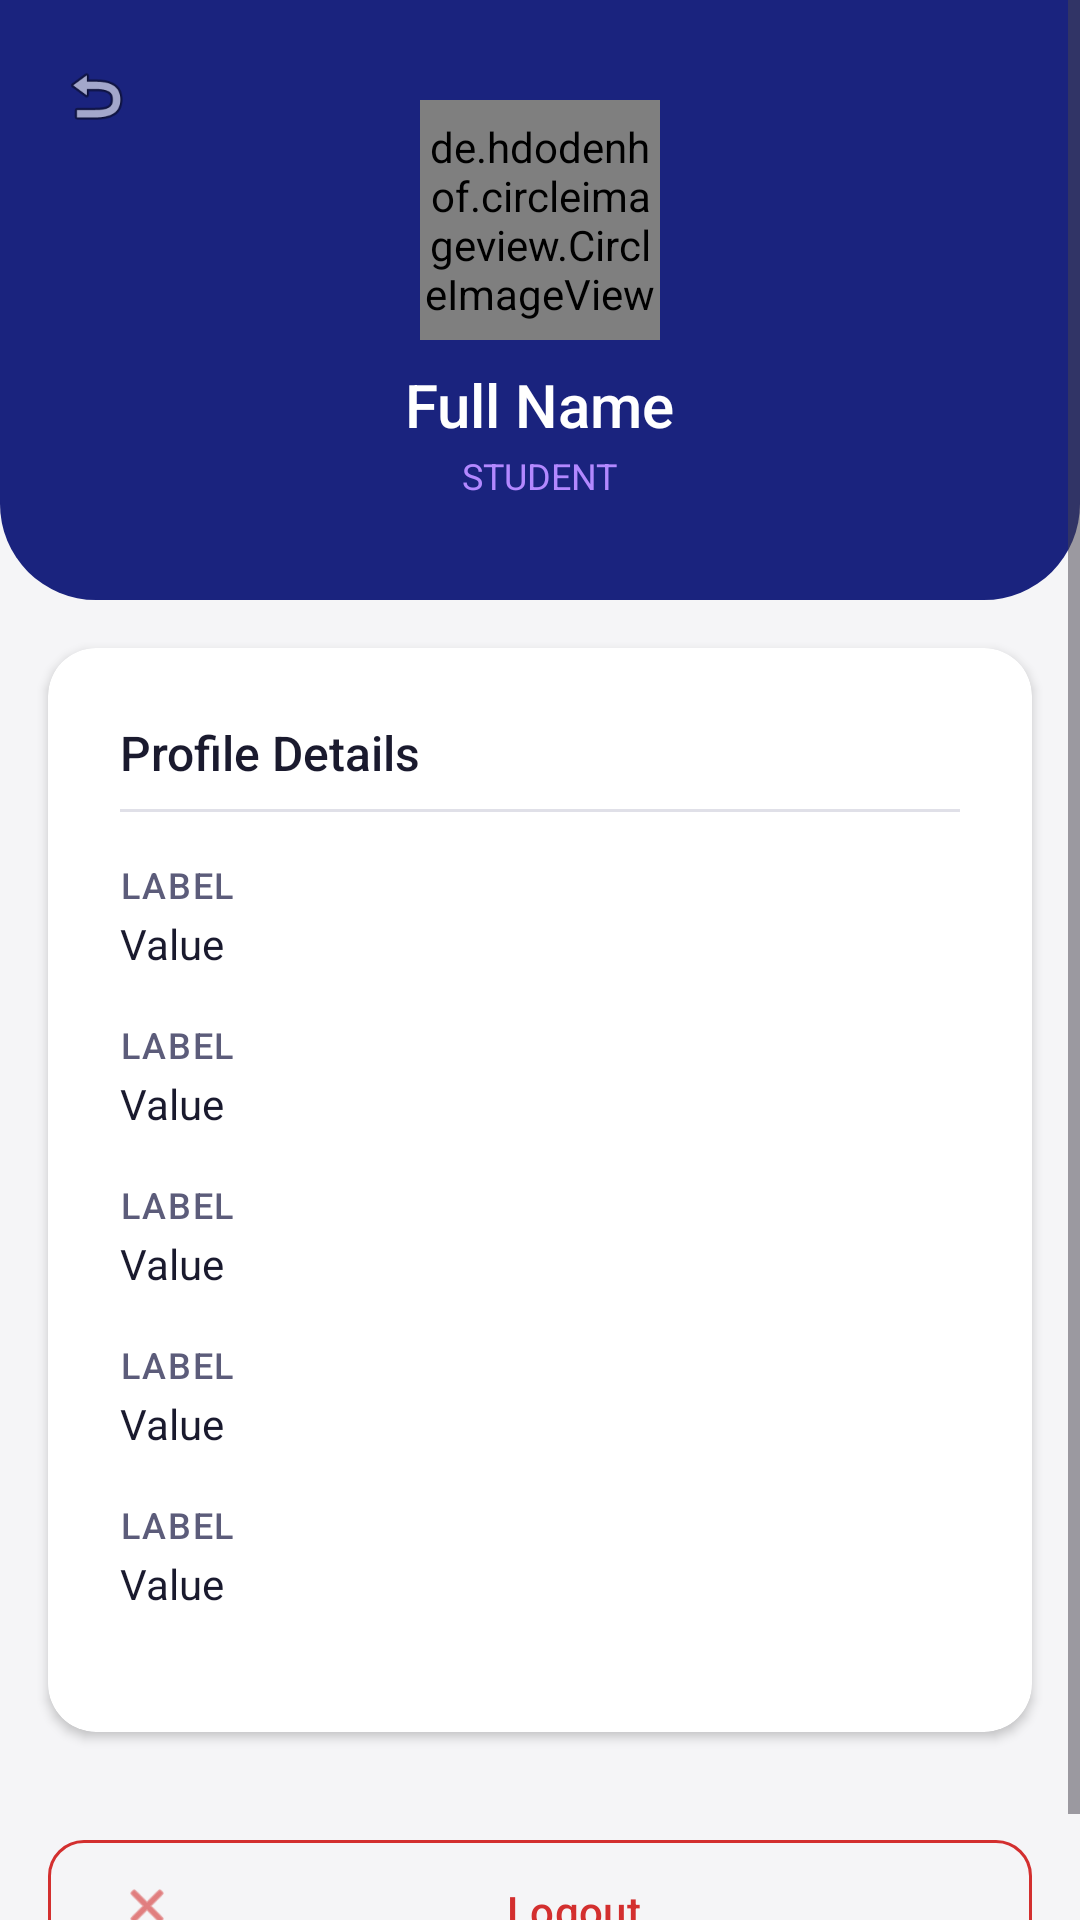

Point at icon controls on the screen. Image size 1080px×1920px, points as point (x, y).
Back: point (97, 96)
